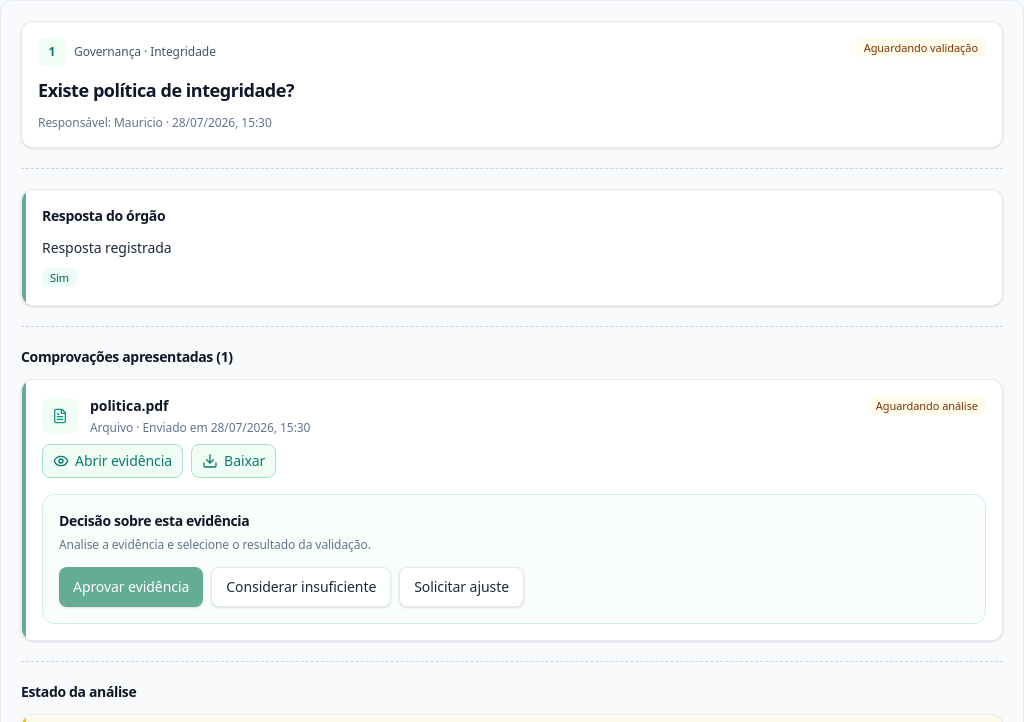
Test: EvidenceCard — documentos de evidência › anuncia falha sem confirmar sucesso
Click the button "Aprovar evidência". click: (131, 587)
box: x1=59 y1=567 x2=203 y2=607
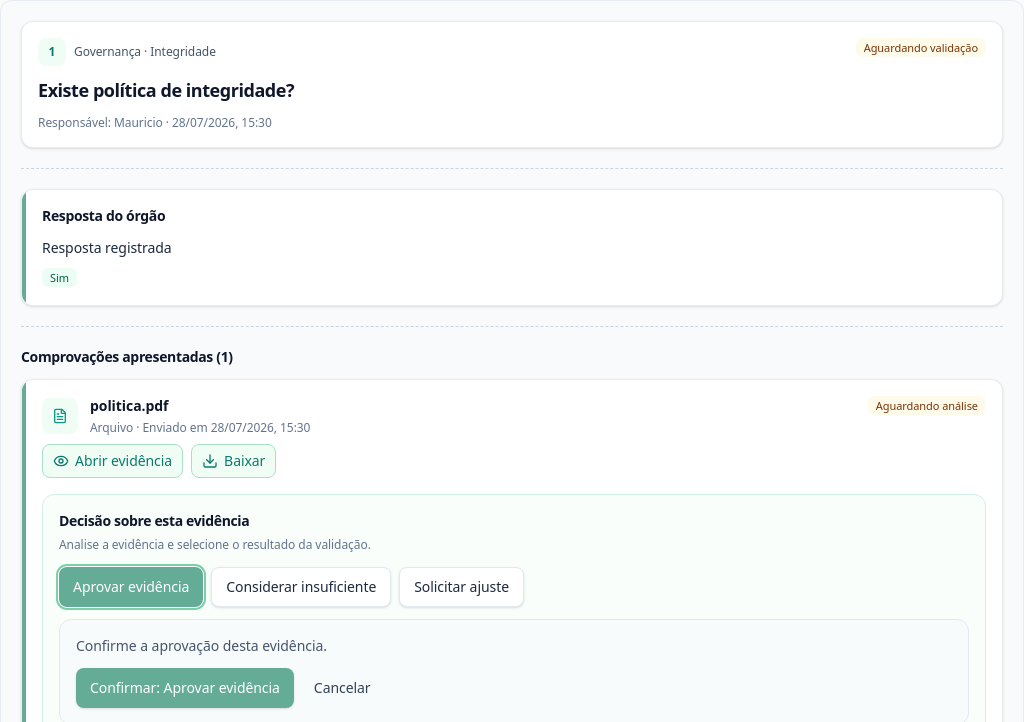
Click the button "Confirmar: Aprovar evidência". click: (185, 688)
box: x1=76 y1=668 x2=294 y2=708
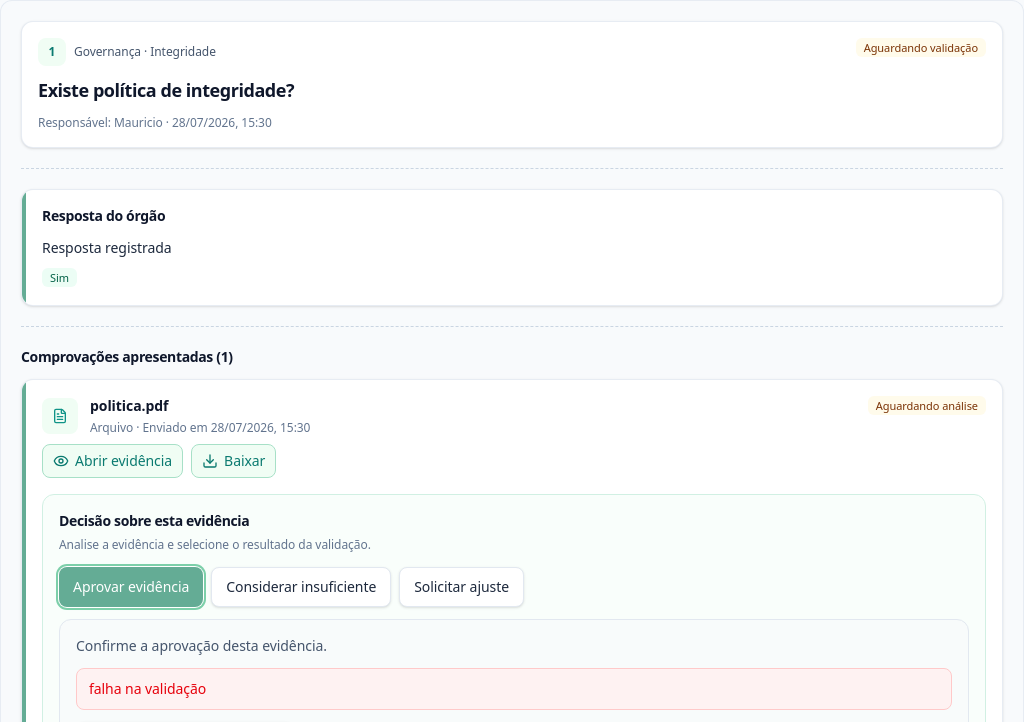
expect the message reads "falha na validação": met, box x1=89 y1=679 x2=206 y2=698
